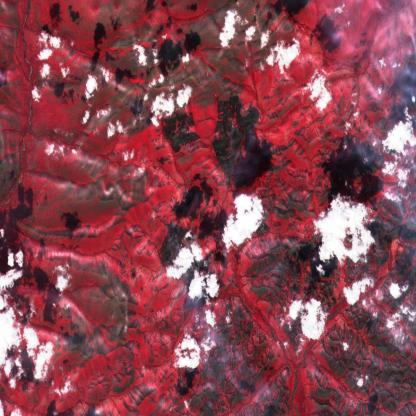fire: (159, 189, 219, 273), (215, 95, 261, 160)
